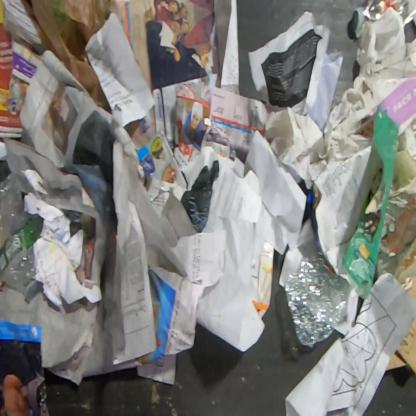cardboard: (249, 239, 274, 320)
rigid_plastic: (283, 246, 353, 347), (0, 171, 44, 305), (378, 191, 416, 258), (352, 0, 415, 34)
soft_plastic: (30, 0, 116, 116)
